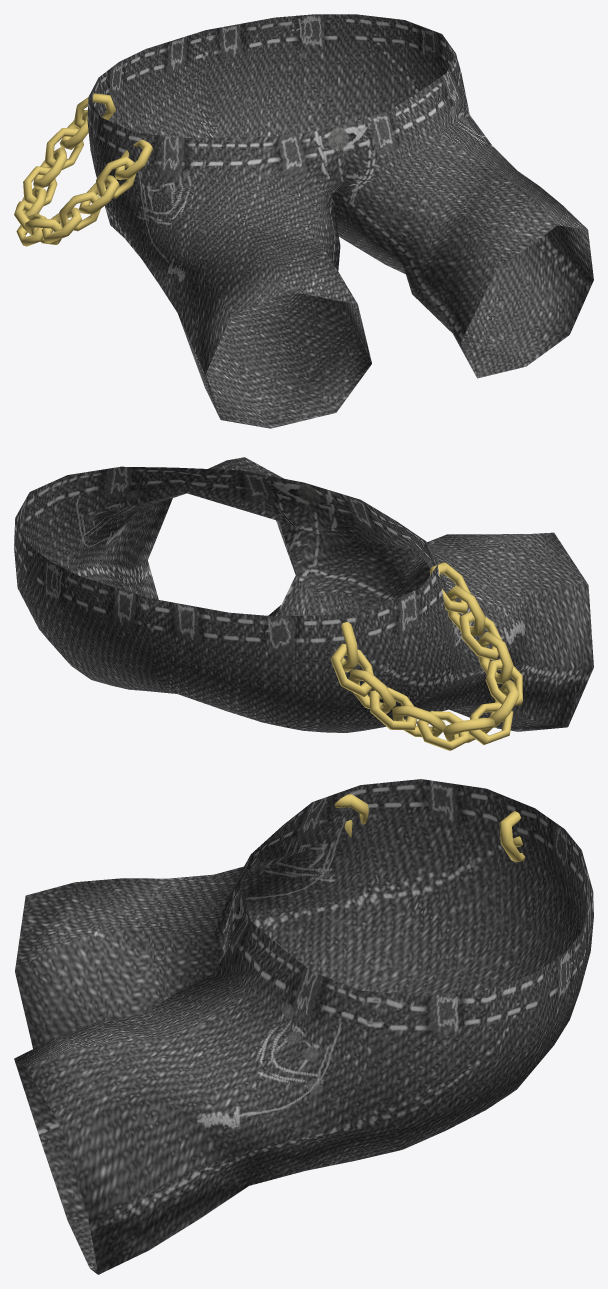
The model's file is Gray_Jeans.glb.
3 views of the same model, one above another, from view 1: azimuth 30°, elevation 25°; view 2: azimuth 150°, elevation 25°; view 3: azimuth 270°, elevation 25° (orthographic). The views are drawn at different scales.
Visible parts, largest first — view 1: Gray_Jeans; view 2: Gray_Jeans; view 3: Gray_Jeans.
Boxes of the visible parts, <box> form: Gray_Jeans: <box>14,14,593,428</box>; Gray_Jeans: <box>14,457,593,750</box>; Gray_Jeans: <box>14,779,593,1274</box>.
Size of the model in its own units: 0.6805 by 0.3365 by 0.5892.
2 materials, 2 textured.
